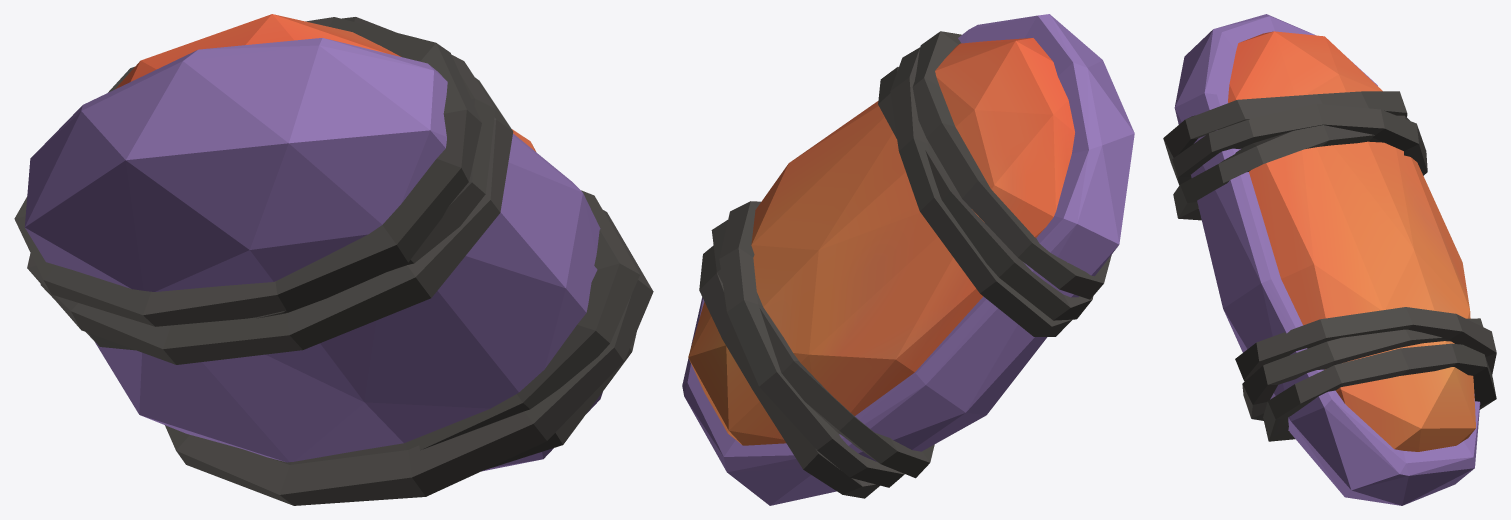
The model's file is trinketFocusStone2.fbx.
The picture shows the model from 3 angles, left to right: view 1: azimuth 30°, elevation 25°; view 2: azimuth 150°, elevation 25°; view 3: azimuth 270°, elevation 25°; orthographic projection. The views are drawn at different scales.
Visible parts, largest first — view 1: trinketFocusStone2; view 2: trinketFocusStone2; view 3: trinketFocusStone2.
Part boxes in pixels (left/top/right/bottom): trinketFocusStone2: left=14, top=14, right=653, bottom=505; trinketFocusStone2: left=682, top=14, right=1134, bottom=505; trinketFocusStone2: left=1163, top=14, right=1496, bottom=505.
Bounding box in the file's own units: 1.53 × 1.5 × 1.16.
